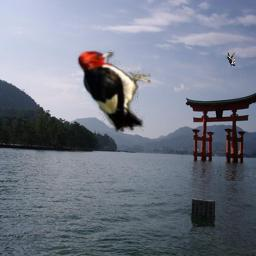Swallow: (226, 52, 235, 67)
Woodpecker: (76, 50, 151, 132)
